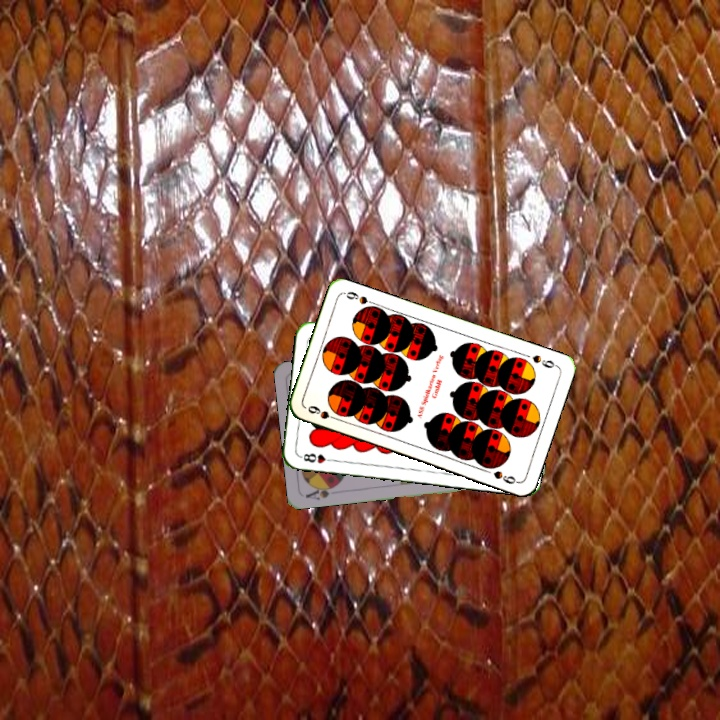H8: (296, 449, 337, 466)
S9: (303, 402, 342, 423), (528, 351, 560, 371)
SA: (302, 480, 341, 503)
